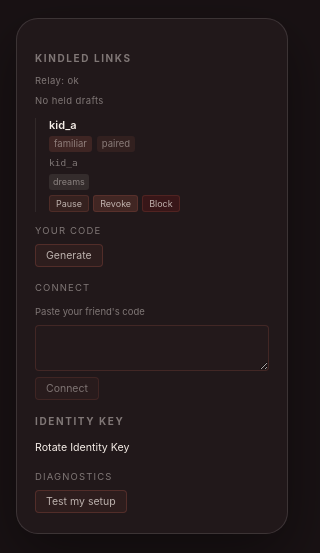
Test: KindledLinksPanel — transcript ordering › shows why a revoke failed instead of leaving the button to re-enable silently (#365)
Step 1. Click the button with aria-label "revoke kid_a" → (116, 203), box [93,195,138,212]
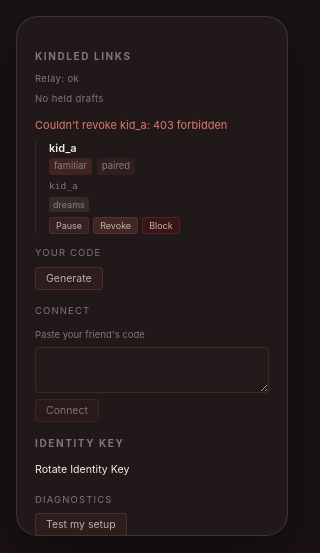
Check: the button with aria-label "revoke kid_a" is enabled, box [93,217,138,234]
Check: the message shows "Couldn't revoke kid_a", box [35,118,227,132]
Check: the message shows "403 forbidden", box [35,118,227,132]
